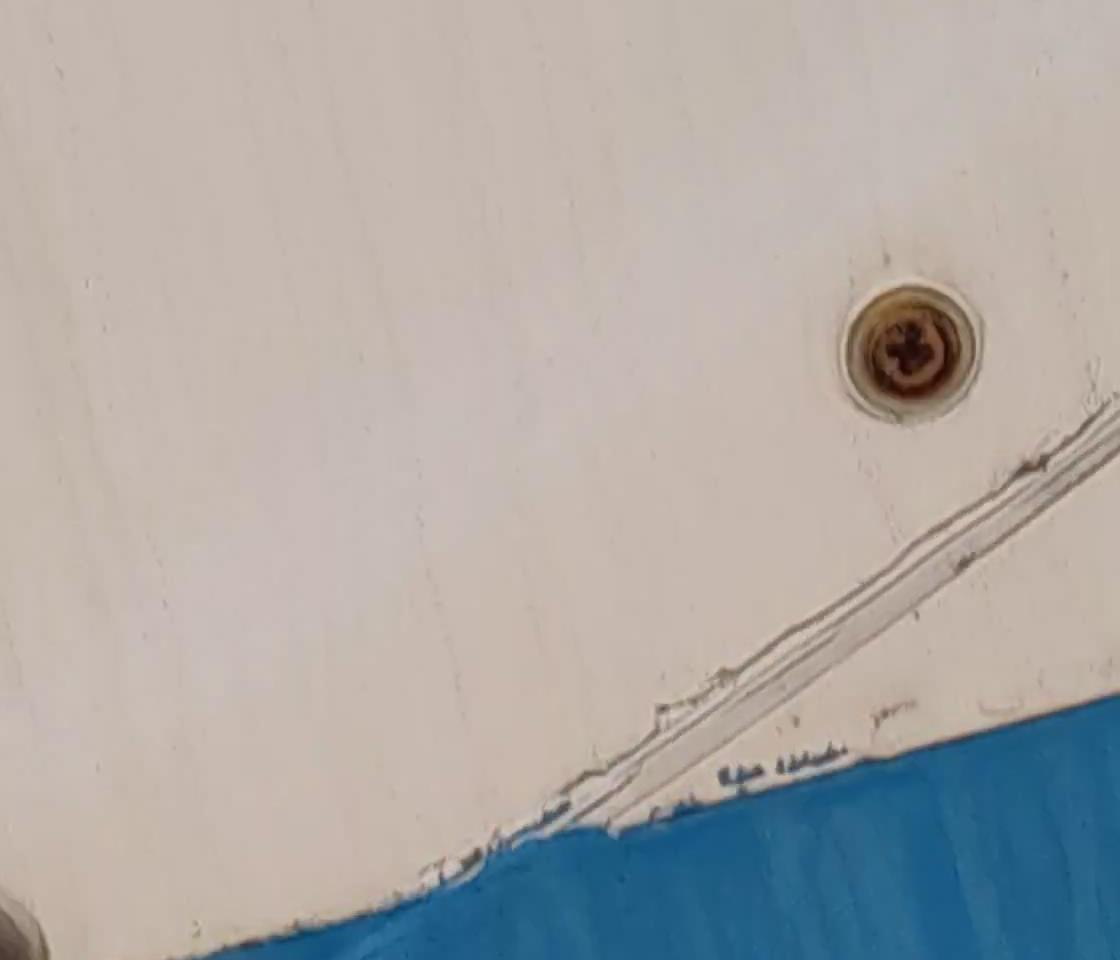rivet_damage: (826, 273, 987, 423)
